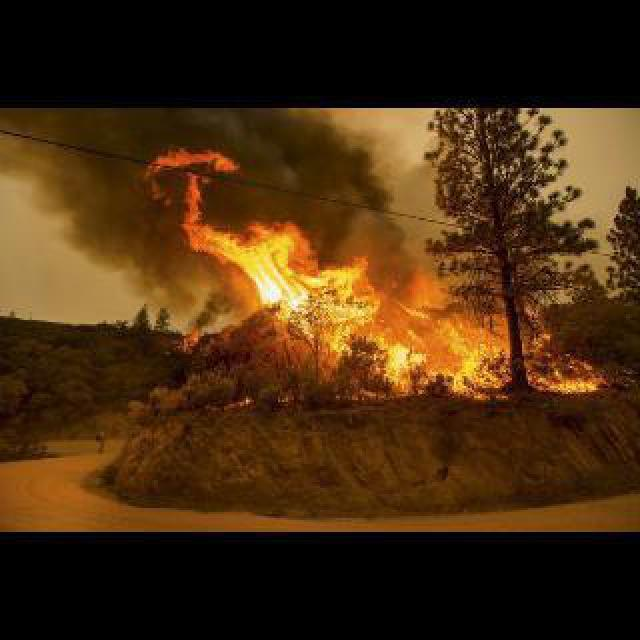fire: (16, 104, 440, 225)
smoke: (142, 148, 606, 394)
